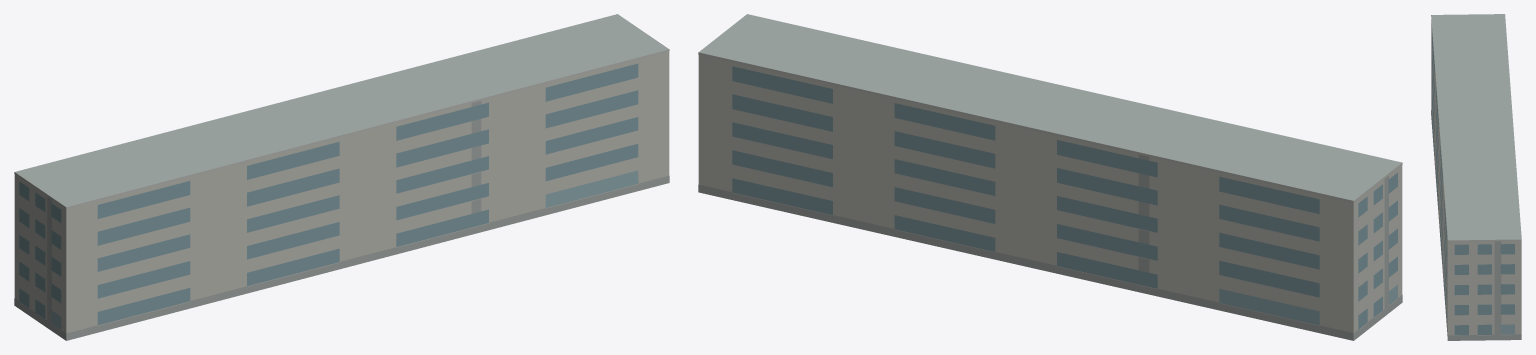
The model's file is residential-6bdb1565-942d-4efc-b1da-da24b9c3a340.glb.
3 views of the same model, side by side, from view 1: azimuth 30°, elevation 25°; view 2: azimuth 150°, elevation 25°; view 3: azimuth 270°, elevation 25° (orthographic). The views are drawn at different scales.
Visible parts, largest first — view 1: residential-6bdb1565-942d-4efc-b1da-da24b9c3a340.tmp; view 2: residential-6bdb1565-942d-4efc-b1da-da24b9c3a340.tmp; view 3: residential-6bdb1565-942d-4efc-b1da-da24b9c3a340.tmp.
Part boxes in pixels (x1=…): residential-6bdb1565-942d-4efc-b1da-da24b9c3a340.tmp: x1=14, y1=14, x2=669, y2=340; residential-6bdb1565-942d-4efc-b1da-da24b9c3a340.tmp: x1=698, y1=14, x2=1402, y2=340; residential-6bdb1565-942d-4efc-b1da-da24b9c3a340.tmp: x1=1431, y1=14, x2=1521, y2=340.
Size of the model in its own units: 73.69 by 15.25 by 12.47.
